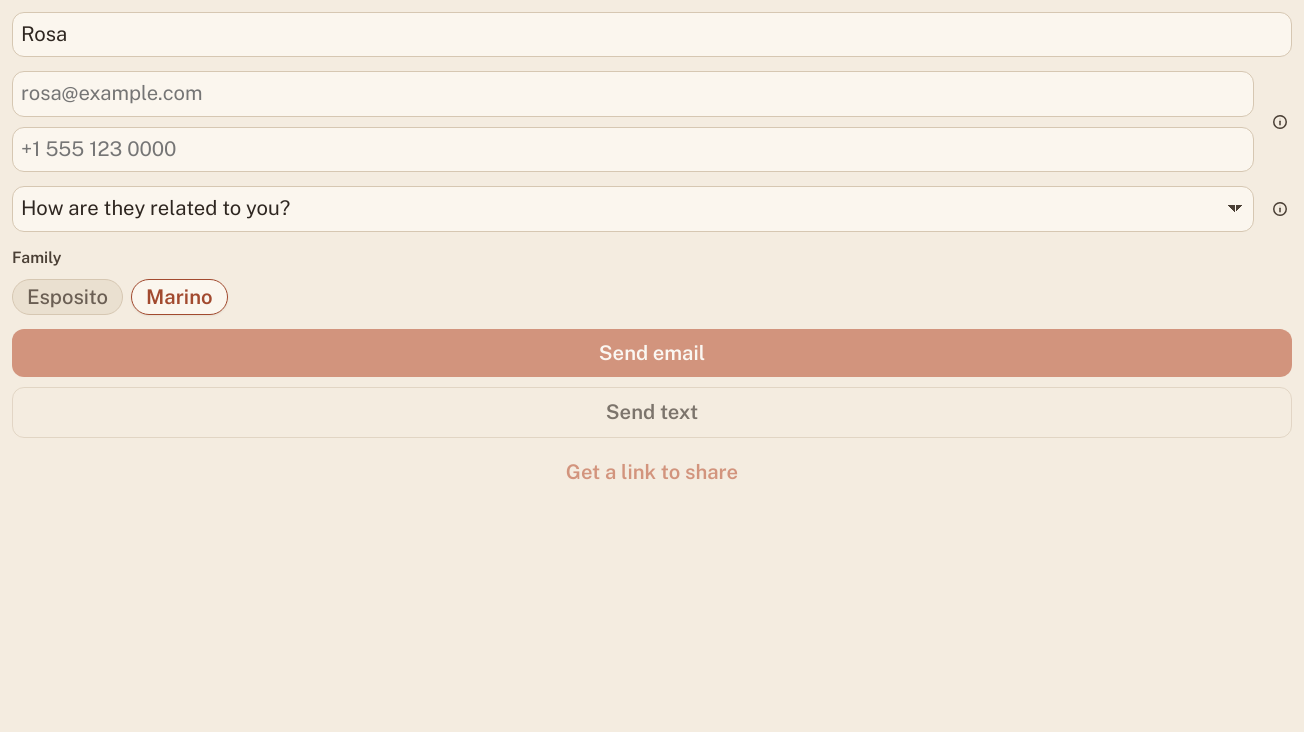
Test case: MemberInviteForm — family required for send actions › keeps Send text disabled without SMS consent even with a phone and family
Type "+15551230000" into the field with test id "invite-phone" at (633, 150), box [12,127,1254,172]
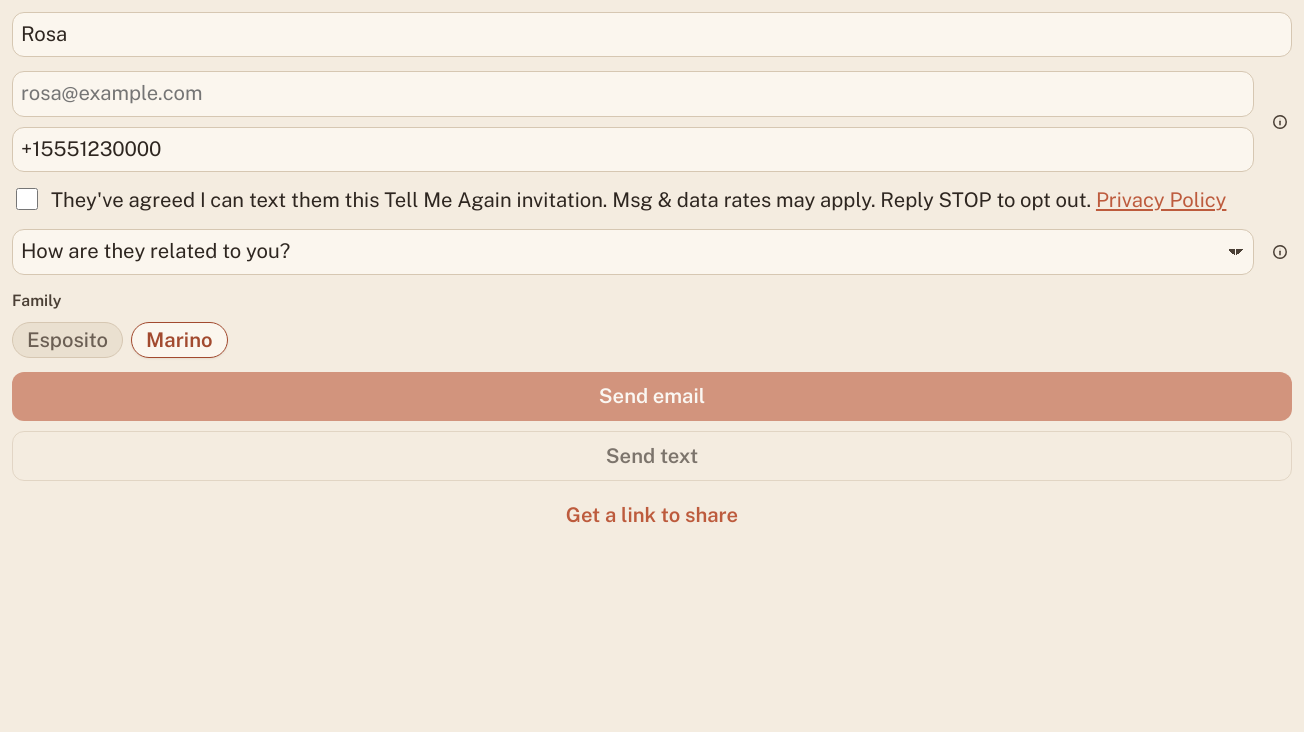
Expected: the button "Send text" is disabled, [12,431,1292,481]
Click the checkbox with test id "invite-sms-consent-checkbox" at (27, 199), box [16,188,38,210]
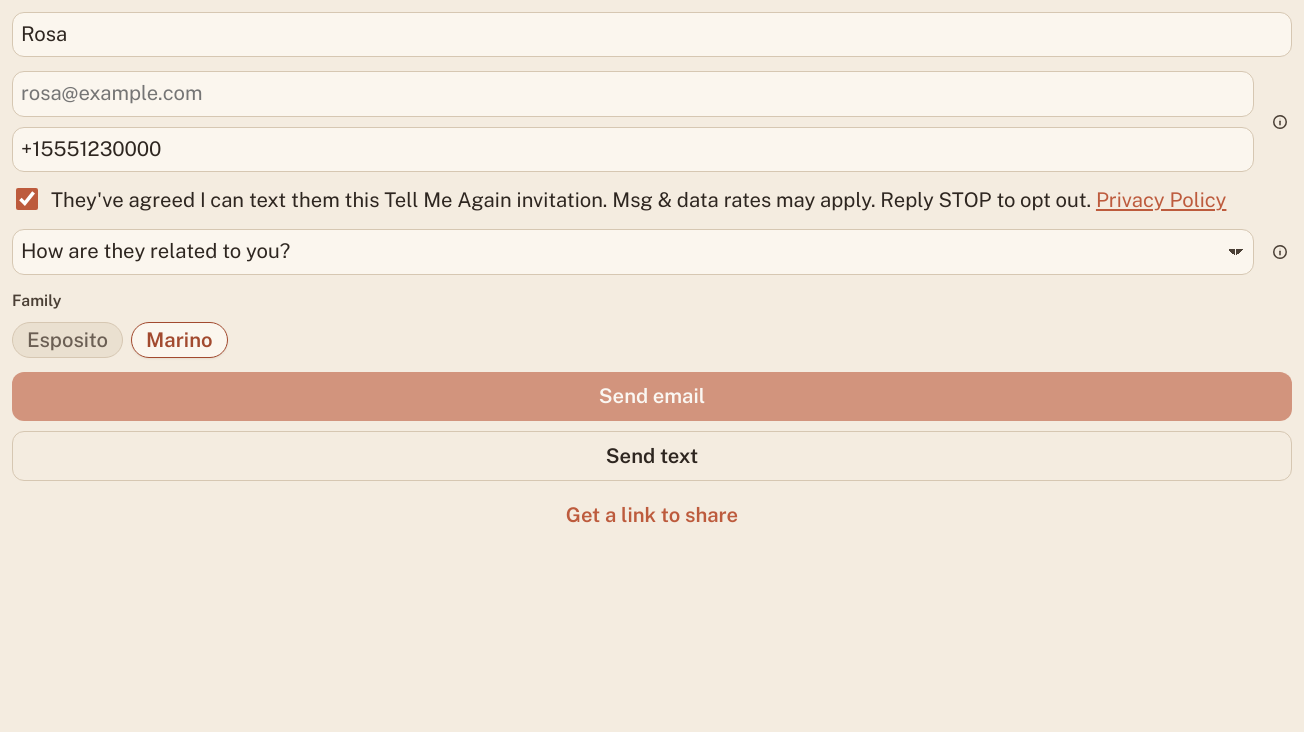
Expected: the button "Send text" is enabled, [12,431,1292,481]
